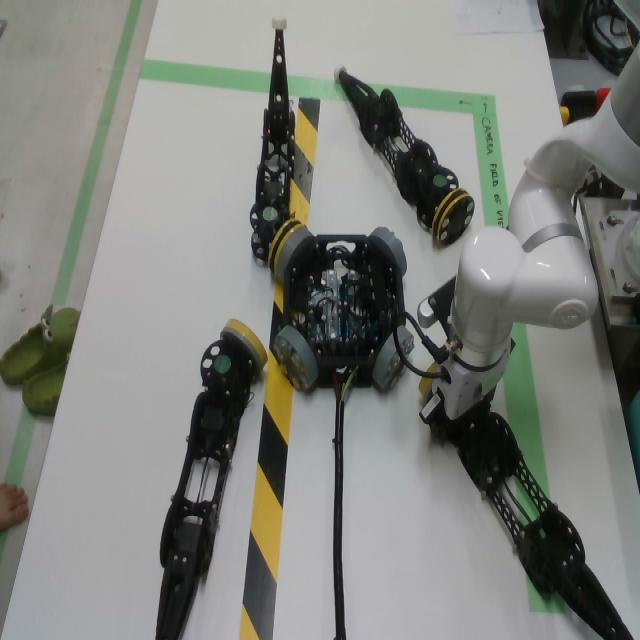body: (283, 235, 406, 388)
body_connector: (274, 325, 318, 391), (372, 333, 405, 393), (369, 227, 408, 277), (277, 227, 314, 279), (397, 327, 415, 356)
gripper: (419, 339, 516, 448)
leg: (450, 399, 635, 640), (155, 319, 268, 640), (333, 64, 475, 245), (249, 13, 304, 273), (418, 377, 434, 399), (426, 361, 441, 375)
leg_connector: (220, 319, 268, 373), (433, 189, 475, 245), (268, 217, 303, 273), (418, 361, 438, 401)
leg_marker: (214, 355, 231, 372), (263, 207, 278, 220), (433, 175, 447, 187)
